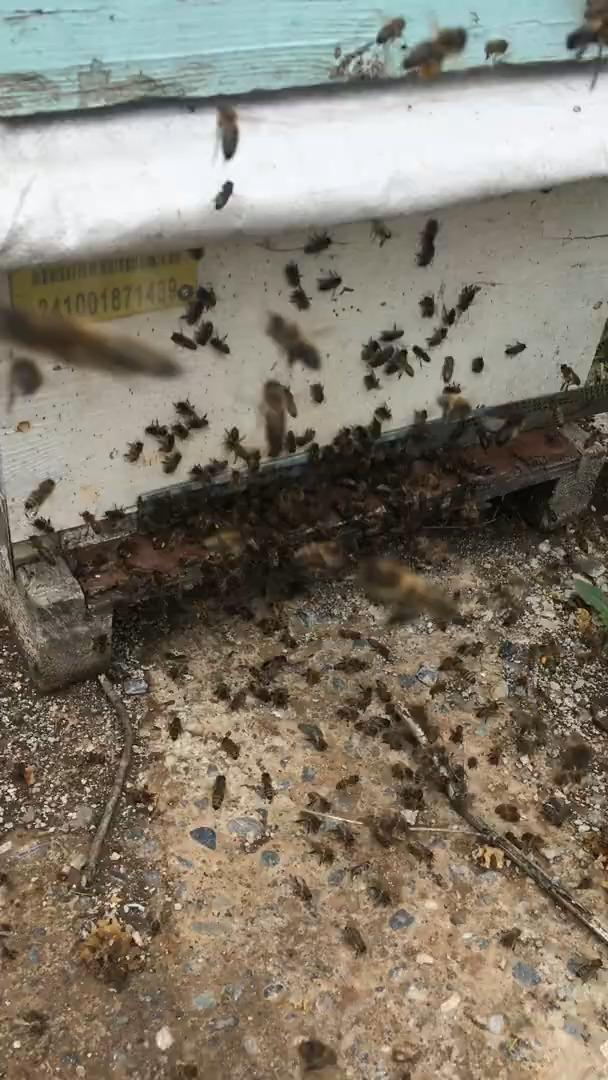worker-bee: (0, 304, 180, 393), (359, 558, 458, 624), (266, 312, 320, 370), (263, 380, 296, 456), (295, 541, 343, 568), (438, 653, 476, 687), (224, 427, 252, 466), (416, 218, 438, 267), (25, 478, 54, 511), (385, 348, 414, 377), (342, 921, 366, 956), (298, 723, 327, 751), (259, 653, 287, 679), (31, 537, 56, 565), (456, 284, 479, 313), (303, 232, 333, 254), (296, 810, 323, 833), (183, 297, 202, 325), (475, 699, 500, 720), (194, 320, 214, 346), (560, 365, 580, 391), (211, 774, 225, 810), (369, 638, 390, 660), (196, 286, 216, 309), (308, 792, 331, 812), (173, 400, 197, 419), (426, 326, 447, 347), (290, 287, 309, 310), (317, 273, 341, 291), (221, 735, 239, 759), (361, 338, 379, 362), (171, 332, 196, 349), (444, 354, 457, 386), (284, 261, 299, 288), (163, 451, 181, 473), (124, 441, 142, 462), (145, 420, 166, 438), (230, 688, 247, 710), (336, 774, 359, 790), (261, 771, 273, 800), (380, 326, 403, 341), (419, 294, 434, 317), (296, 428, 315, 446), (441, 355, 453, 383), (33, 516, 53, 532), (168, 716, 181, 740), (412, 345, 430, 362), (442, 305, 456, 326), (310, 383, 324, 404), (172, 423, 189, 440), (505, 342, 525, 355), (471, 357, 484, 374), (308, 442, 319, 461)
